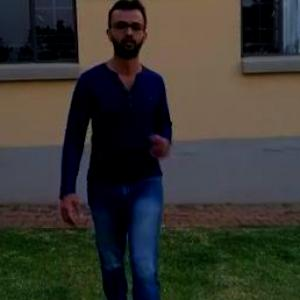follow: (55, 0, 173, 299)
